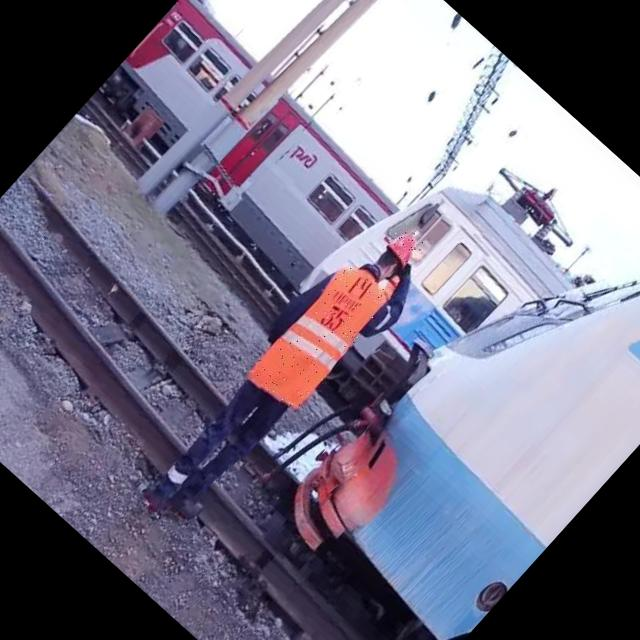hard_hat: (380, 223, 428, 271)
safety_vest: (241, 254, 399, 419)
